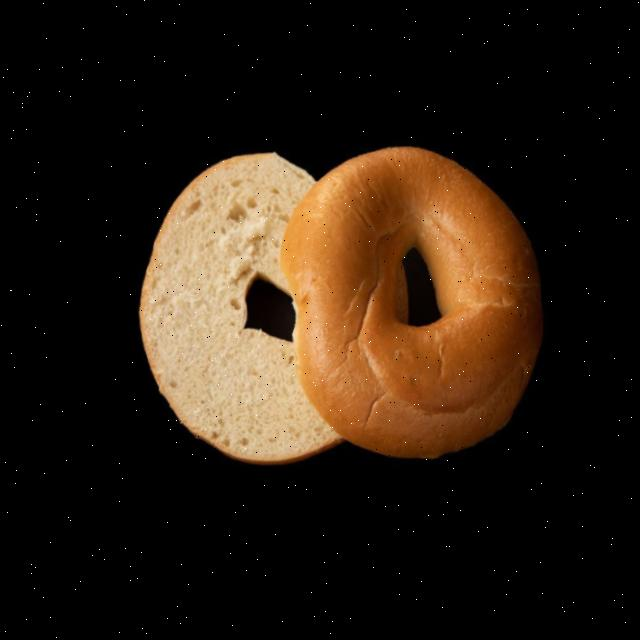Bagel: (277, 149, 539, 458), (136, 154, 336, 463)
